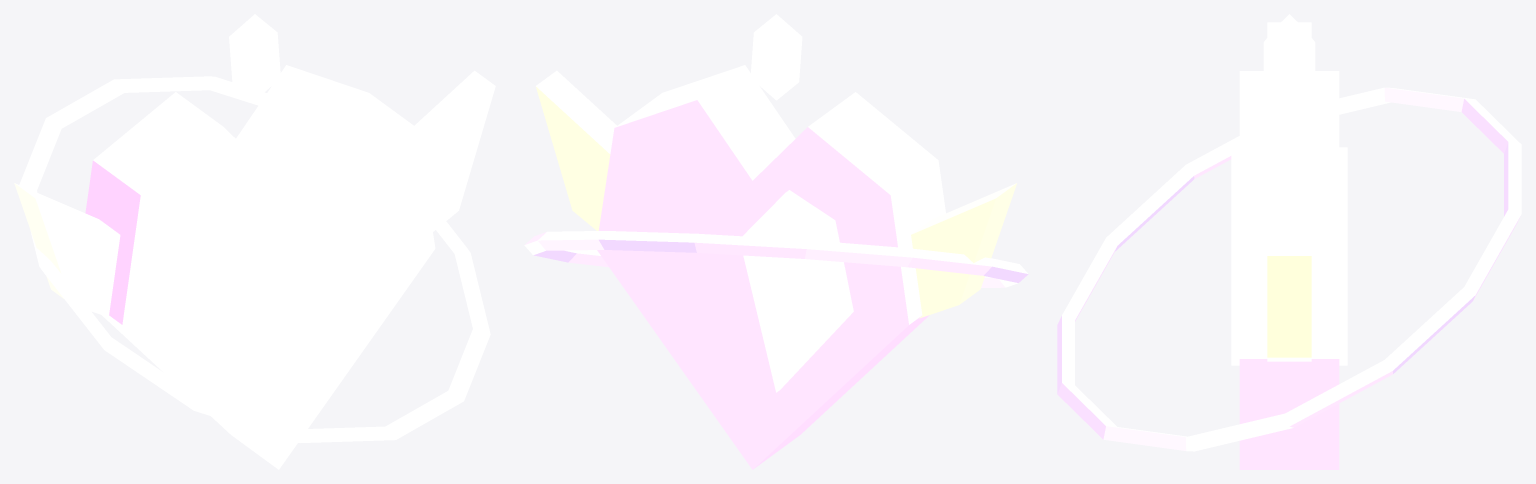
File: charm.glb
3 renders of one model, left to right at view 1: azimuth 30°, elevation 25°; view 2: azimuth 150°, elevation 25°; view 3: azimuth 270°, elevation 25°, orthographic. The views are drawn at different scales.
Parts seen in each view (by area): view 1: HeartGem, CharmOrbit, HeartHighlight, CharmWing_-1, CharmWing_1, CharmFocus; view 2: HeartGem, HeartHighlight, CharmOrbit, CharmWing_1, CharmWing_-1, CharmFocus; view 3: HeartGem, CharmOrbit, CharmWing_1, HeartHighlight, CharmFocus.
Part boxes in pixels (left/top/right/bottom): HeartGem: left=85, top=65, right=435, bottom=469; CharmOrbit: left=19, top=76, right=490, bottom=442; HeartHighlight: left=177, top=190, right=291, bottom=392; CharmWing_-1: left=14, top=183, right=120, bottom=318; CharmWing_1: left=414, top=70, right=495, bottom=231; CharmFocus: left=229, top=14, right=280, bottom=100; HeartGem: left=597, top=65, right=945, bottom=469; HeartHighlight: left=743, top=190, right=853, bottom=392; CharmOrbit: left=524, top=231, right=1028, bottom=287; CharmWing_1: left=535, top=70, right=616, bottom=230; CharmWing_-1: left=911, top=183, right=1016, bottom=318; CharmFocus: left=750, top=14, right=802, bottom=100; HeartGem: left=1239, top=71, right=1339, bottom=469; CharmOrbit: left=1057, top=87, right=1521, bottom=451; CharmWing_1: left=1267, top=256, right=1311, bottom=361; HeartHighlight: left=1231, top=147, right=1347, bottom=365; CharmFocus: left=1263, top=14, right=1315, bottom=103.
Bounding box in the file's own units: 1 × 0.91 × 0.8392.
